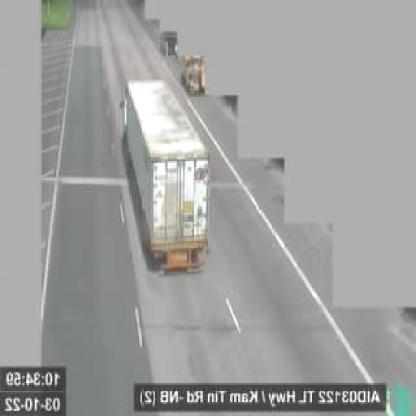Truck: (124, 78, 210, 267)
